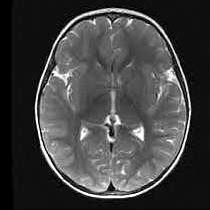Normal_Brain: (2, 1, 210, 210)
